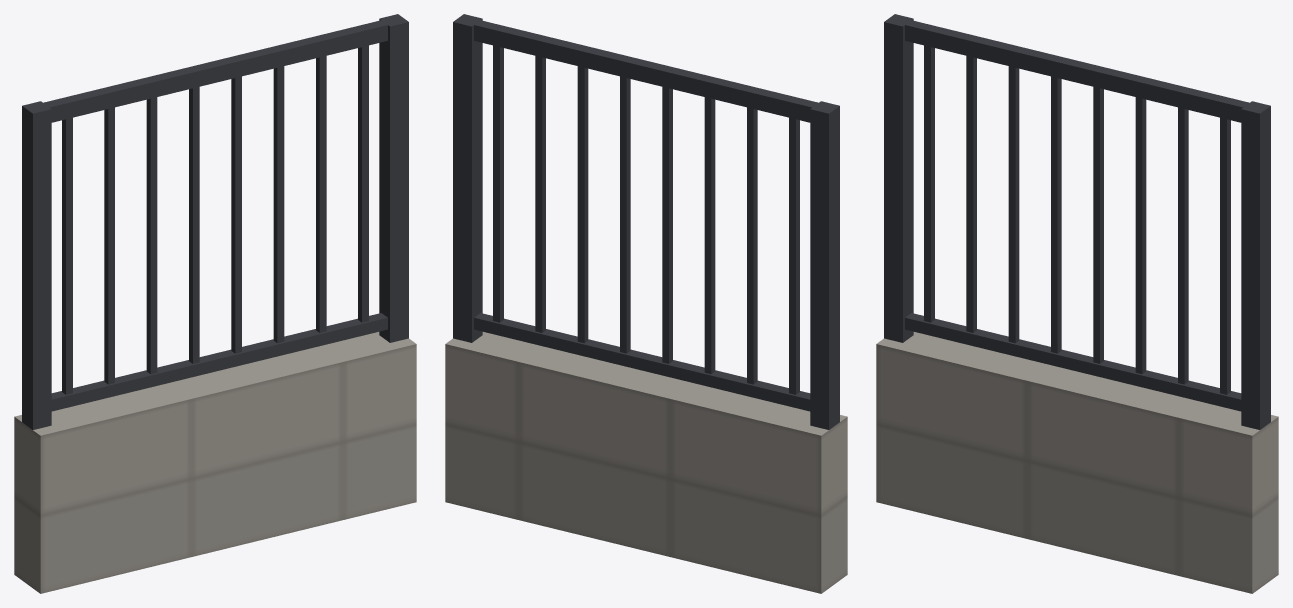
Rendered from SM_Lot_GapFence_BlockAlu_995_01.fbx.
The picture shows the model from 3 angles, left to right: view 1: azimuth 30°, elevation 25°; view 2: azimuth 150°, elevation 25°; view 3: azimuth 330°, elevation 25°; orthographic projection.
Parts seen in each view (by area): view 1: SM_Lot_GapFence_BlockAlu_995_01; view 2: SM_Lot_GapFence_BlockAlu_995_01; view 3: SM_Lot_GapFence_BlockAlu_995_01.
Boxes of the visible parts, x1,y1,x2,y2 form: SM_Lot_GapFence_BlockAlu_995_01: (14,14,416,593); SM_Lot_GapFence_BlockAlu_995_01: (445,14,847,593); SM_Lot_GapFence_BlockAlu_995_01: (876,14,1278,593).
Size of the model in its own units: 0.995 by 1.2 by 0.12.
Materials: 1 (1 with a texture image).
